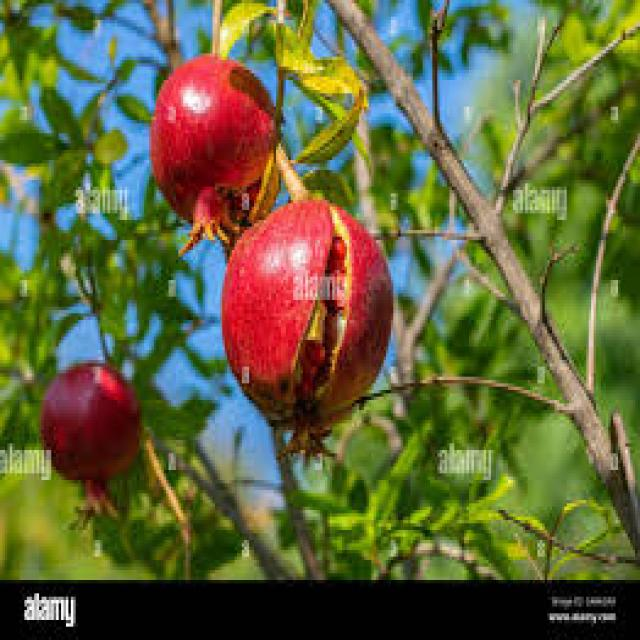overripe: (221, 196, 396, 461), (145, 54, 282, 248)
